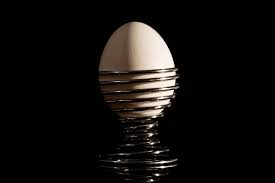egg: (99, 21, 176, 118)
